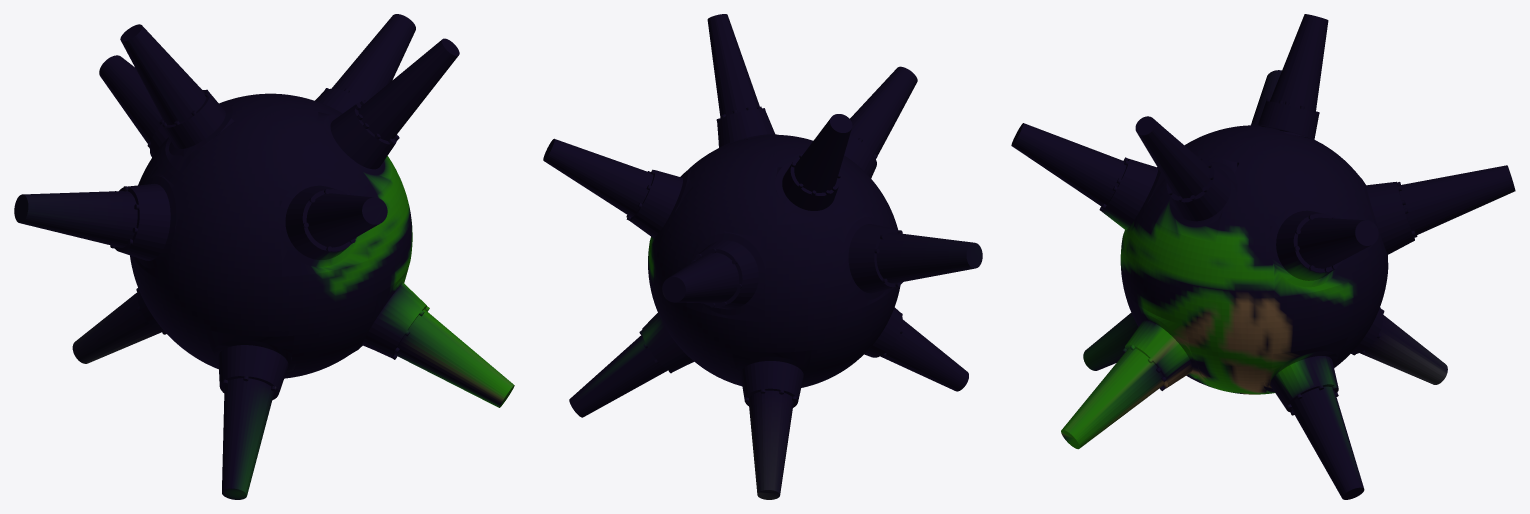
Rendered from Mine (1).fbx.
The picture shows the model from 3 angles, left to right: view 1: azimuth 30°, elevation 25°; view 2: azimuth 150°, elevation 25°; view 3: azimuth 270°, elevation 25°; orthographic projection. The views are drawn at different scales.
Parts seen in each view (by area): view 1: Sphere; view 2: Sphere; view 3: Sphere.
Part boxes in pixels (x1,y1,x2,y2): Sphere: (14,14,514,499); Sphere: (543,14,982,499); Sphere: (1011,14,1515,499).
Bounding box in the file's own units: 834 × 699 × 877.
